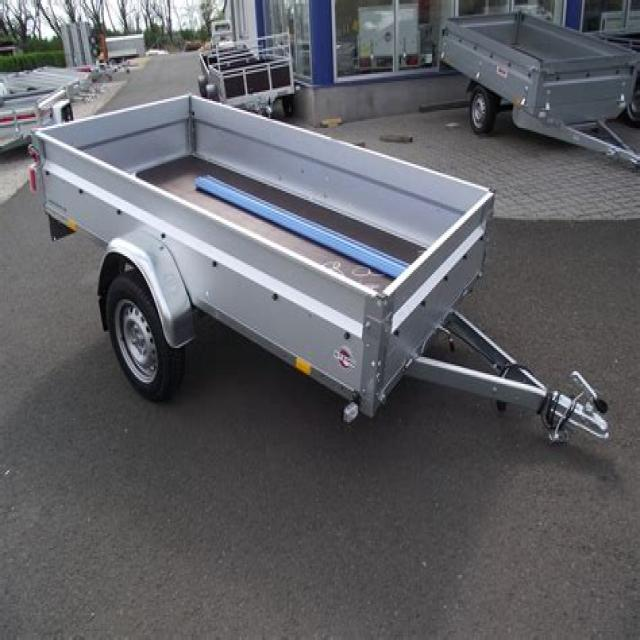trailer: (31, 90, 496, 418), (437, 9, 640, 117)
